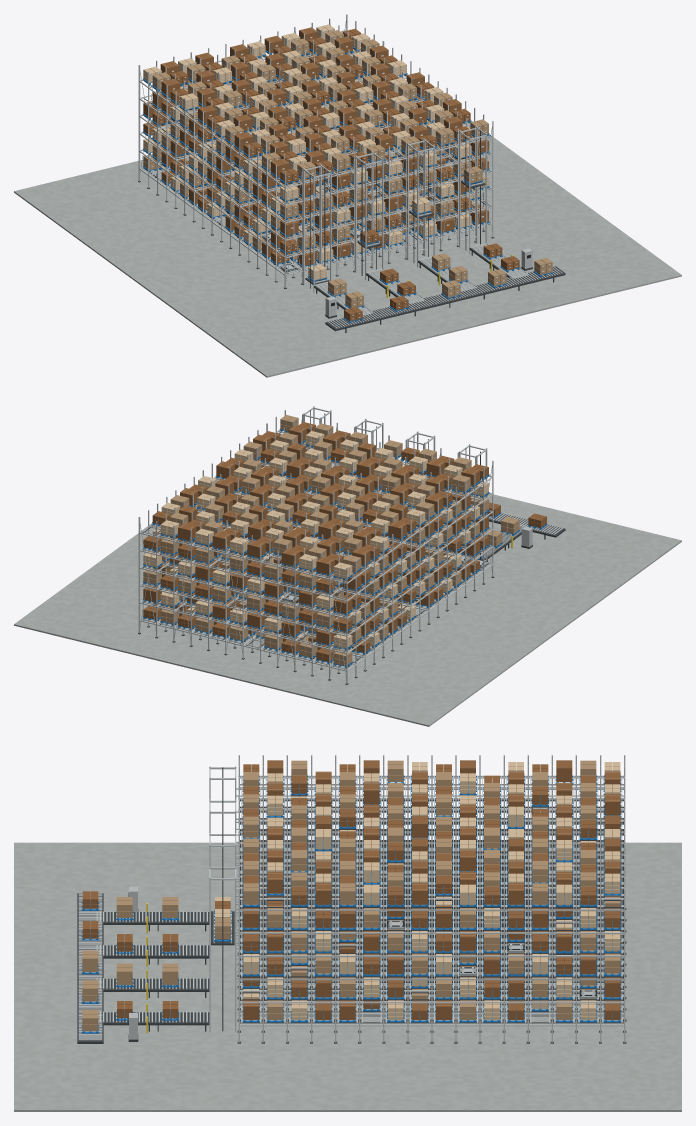
3 views of the same model, one above another, from view 1: azimuth 30°, elevation 25°; view 2: azimuth 150°, elevation 25°; view 3: azimuth 270°, elevation 25° (orthographic). The views are drawn at different scales.
Parts seen in each view (by area): view 1: Floor, Common transfer frame; view 2: Floor; view 3: Floor, Longitudinal channel rail.051, Longitudinal channel rail.012, Longitudinal channel rail.025, Longitudinal channel rail.038, Common transfer frame, Longitudinal channel rail.064, Longitudinal channel rail.077, Shuttle longitudinal track.023, Shuttle longitudinal track.047, Shuttle longitudinal track.071, Conveyor frame.003 (+3 smaller).
Boxes of the visible parts, bbox=[...] form: Floor: bbox=[14, 96, 681, 377]; Common transfer frame: bbox=[325, 266, 565, 331]; Floor: bbox=[14, 477, 681, 726]; Floor: bbox=[14, 842, 681, 1111]; Longitudinal channel rail.051: bbox=[238, 955, 623, 957]; Longitudinal channel rail.012: bbox=[238, 1024, 623, 1026]; Longitudinal channel rail.025: bbox=[238, 1001, 623, 1003]; Longitudinal channel rail.038: bbox=[238, 978, 623, 980]; Common transfer frame: bbox=[77, 893, 103, 1043]; Longitudinal channel rail.064: bbox=[238, 932, 623, 933]; Longitudinal channel rail.077: bbox=[238, 909, 623, 910]; Shuttle longitudinal track.023: bbox=[240, 1022, 623, 1023]; Shuttle longitudinal track.047: bbox=[240, 999, 623, 1000]; Shuttle longitudinal track.071: bbox=[240, 976, 623, 977]; Conveyor frame.003: bbox=[153, 1012, 209, 1025].
Size of the model in its own units: 36 by 9.79 by 38.
14 materials, 2 textured.
